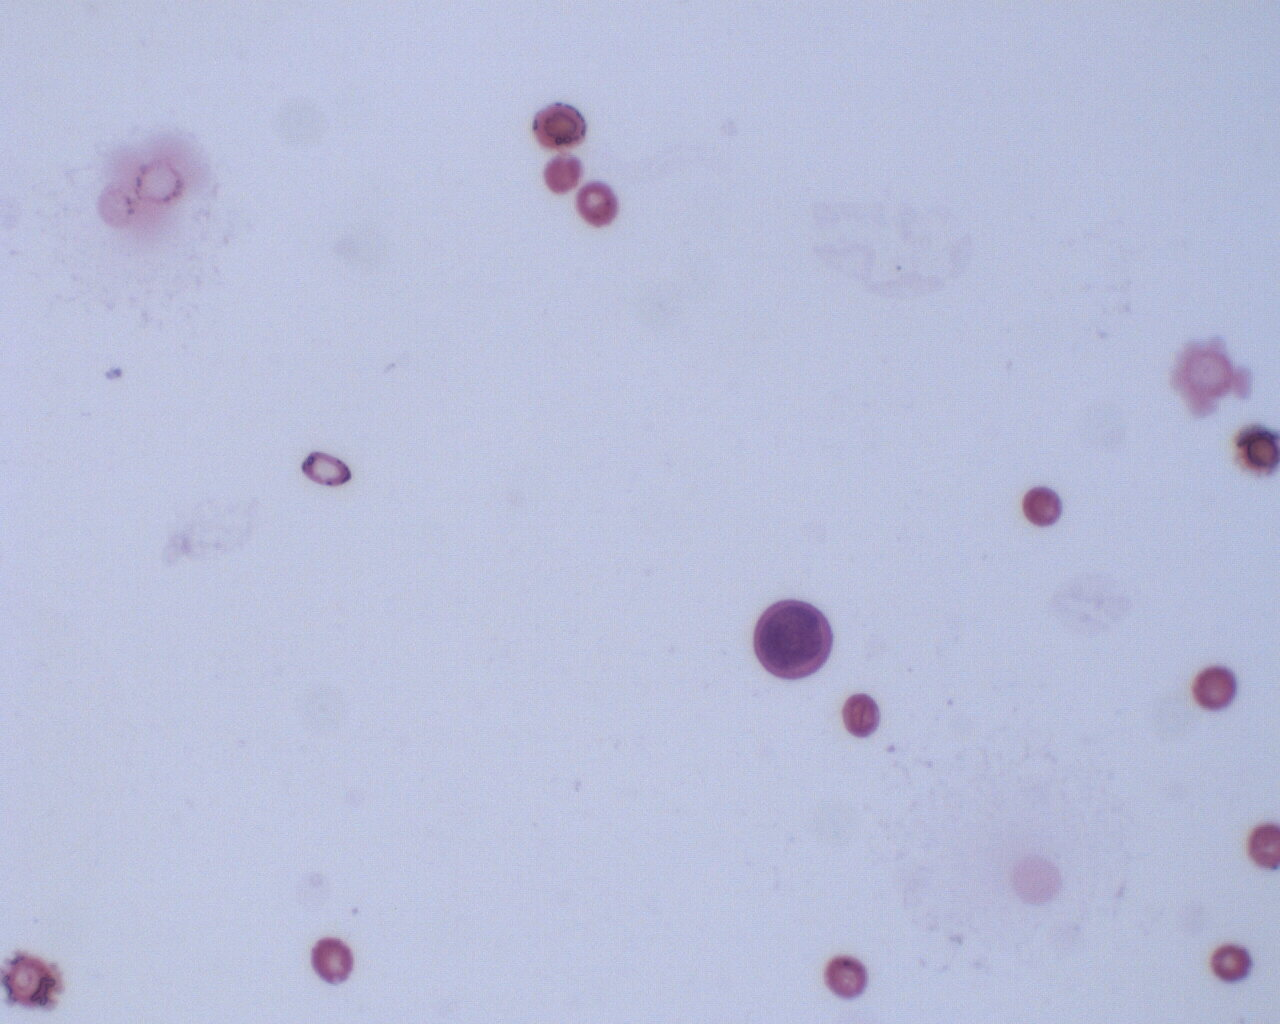ab: (749, 597, 839, 692)
